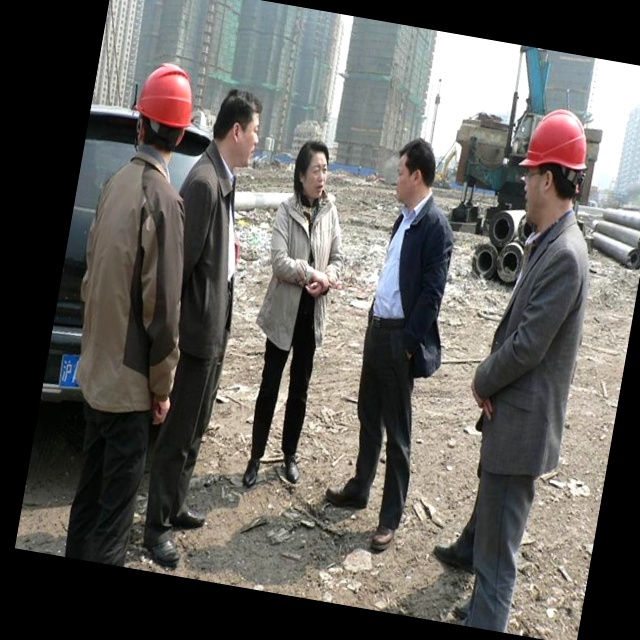Con_Casco: (513, 104, 596, 221), (129, 58, 202, 167)
Sin_Casco_Mascarrilla: (208, 87, 267, 169)
Sin_Chaleco: (62, 166, 201, 420), (260, 189, 347, 329), (368, 200, 459, 333)
